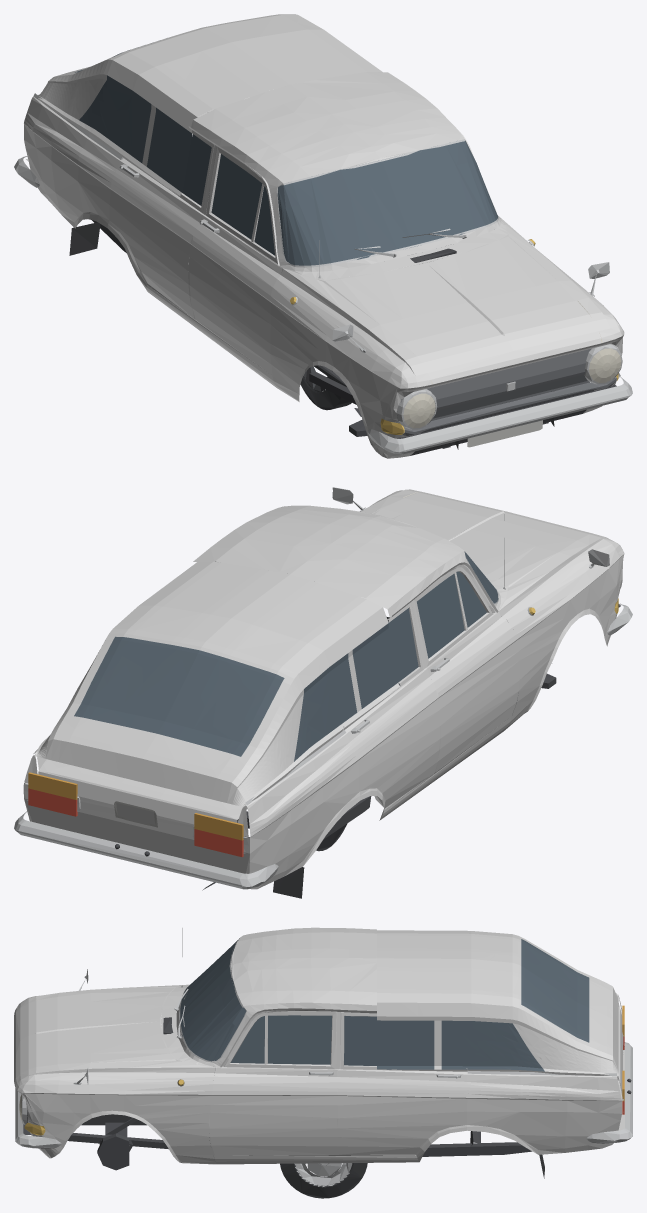
Rendered from kombi.glb.
3 views of the same model, one above another, from view 1: azimuth 30°, elevation 25°; view 2: azimuth 150°, elevation 25°; view 3: azimuth 270°, elevation 25° (orthographic). The views are drawn at different scales.
Parts seen in each view (by area): view 1: paint, detail, lights, wheel; view 2: paint, detail, lights; view 3: paint, detail, wheel, lights.
Boxes of the visible parts, x1=… form: paint: x1=24, y1=14, x2=624, y2=458; detail: x1=14, y1=50, x2=632, y2=455; lights: x1=290, y1=239, x2=621, y2=434; wheel: x1=300, y1=366, x2=351, y2=410; paint: x1=23, y1=489, x2=624, y2=889; detail: x1=14, y1=487, x2=632, y2=898; lights: x1=28, y1=492, x2=618, y2=857; paint: x1=14, y1=927, x2=624, y2=1164; detail: x1=15, y1=928, x2=632, y2=1178; wheel: x1=280, y1=1163, x2=367, y2=1198; lights: x1=15, y1=1005, x2=624, y2=1135.
Size of the model in its own units: 1.74 by 1.77 by 4.2.
